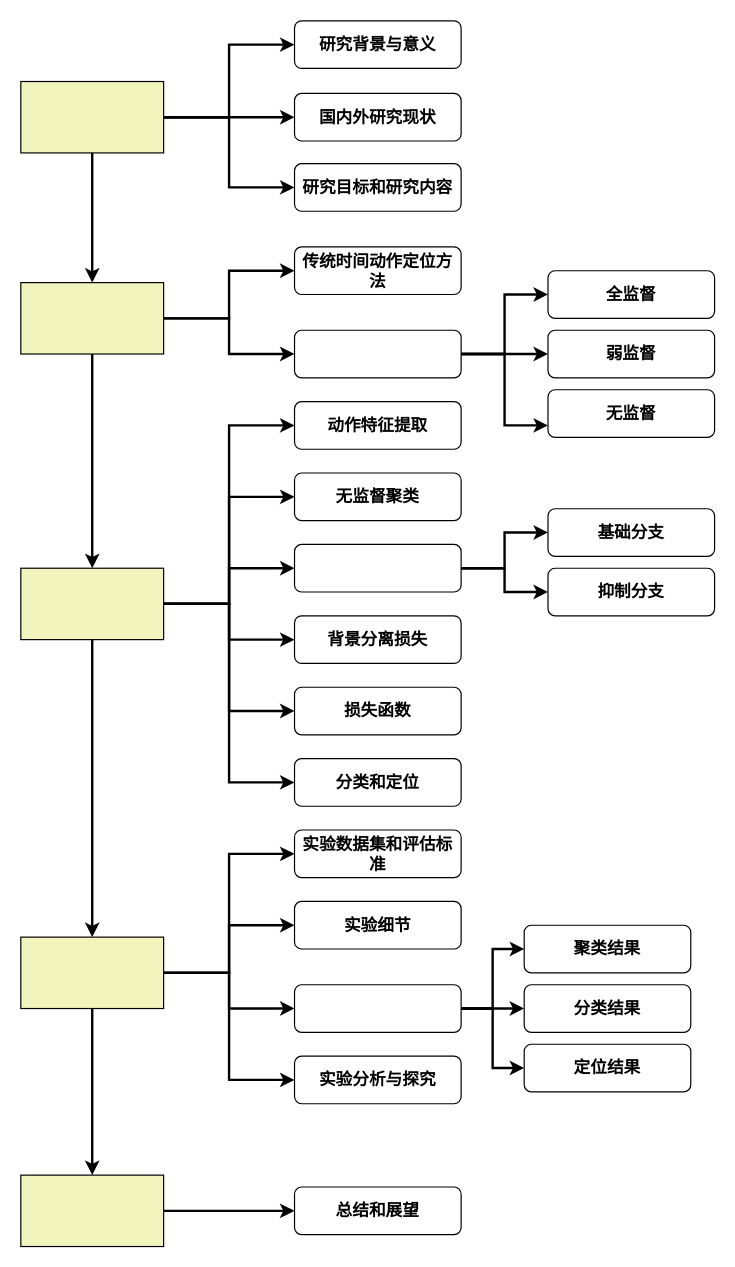
Image size: 735x1267. Some labels were removed from this diagram. Each missing label, with the centre of its shape:
基于深度学习的时间动作定位方法: the point at 377,353
实验结果: the point at 377,1008
第一章：绪论: the point at 92,116
第三章：基于背景抑制网络的无监督时间动作定位: the point at 92,603
第二章：相关理论与技术基础: the point at 92,317
第五章: the point at 92,1210
第四章: the point at 92,972
背景抑制网络: the point at 377,567
